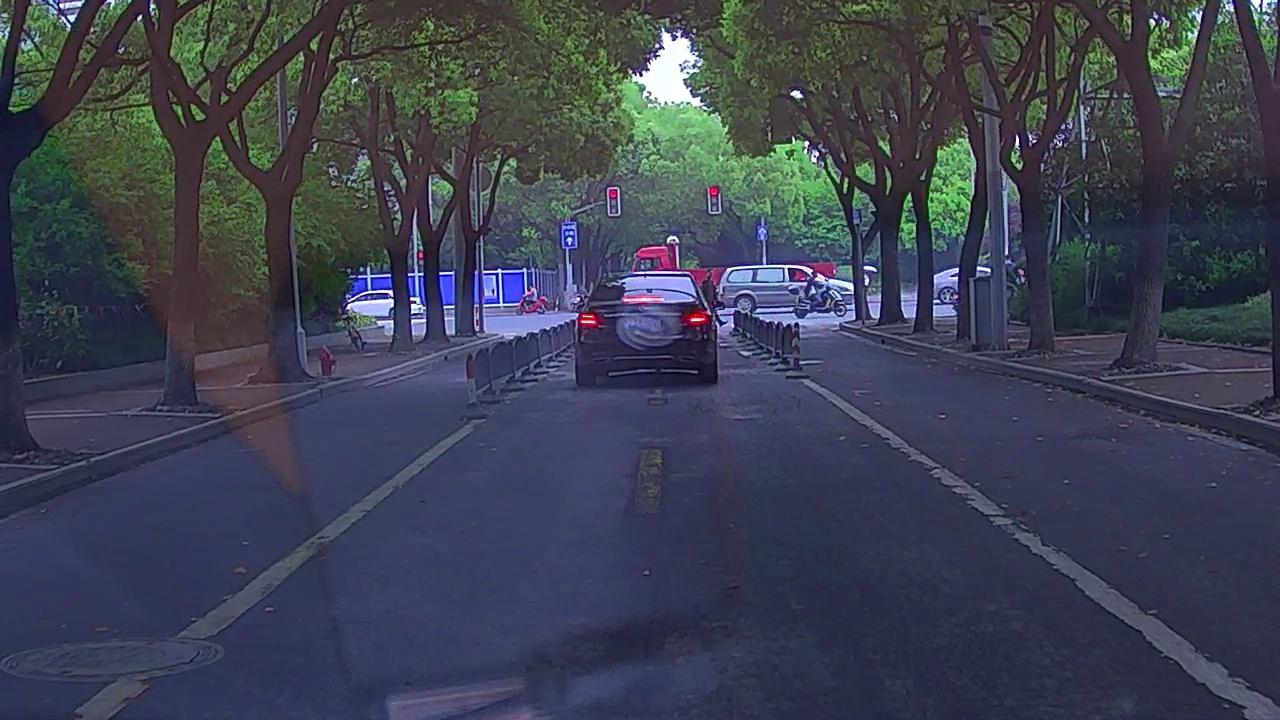traffic_light: (709, 187, 719, 212), (608, 190, 618, 214)
